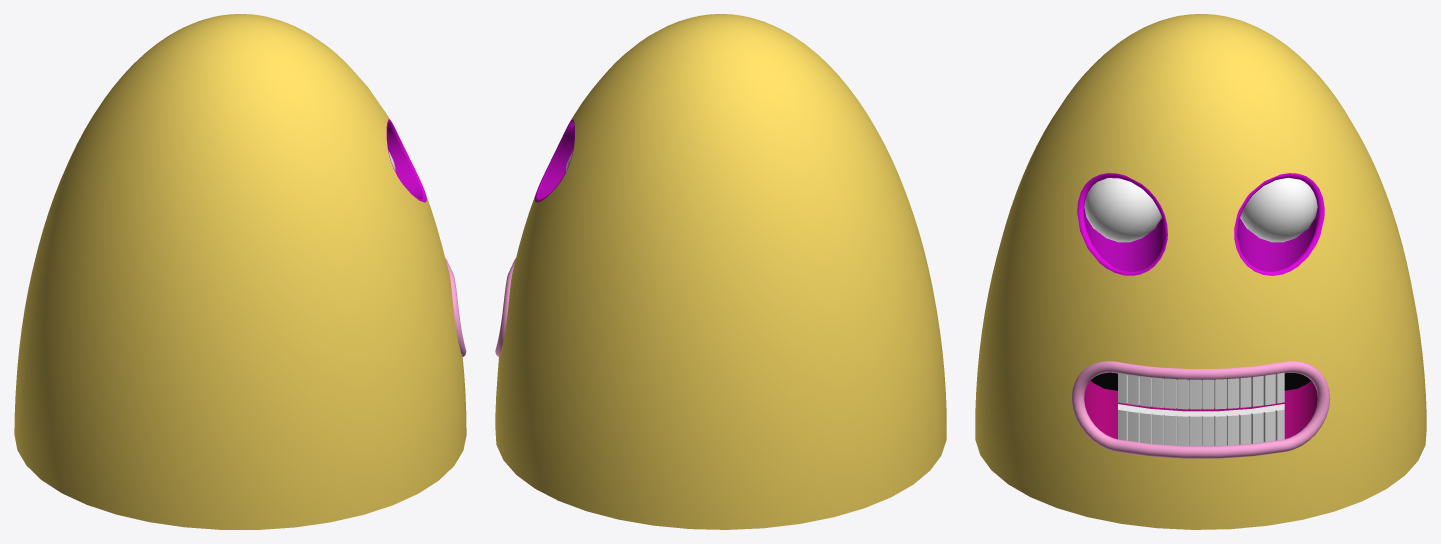
File: sillybob.glb
3 views of the same model, side by side, from view 1: azimuth 30°, elevation 25°; view 2: azimuth 150°, elevation 25°; view 3: azimuth 270°, elevation 25° (orthographic).
Visible parts, largest first — view 1: Dome2; view 2: Dome2; view 3: Dome2.
Part boxes in pixels (box(x1,y1,x2,y2)): Dome2: box(14, 14, 466, 529); Dome2: box(495, 14, 946, 529); Dome2: box(975, 14, 1426, 529).
Bounding box in the file's own units: 0.9002 × 0.9006 × 0.8995.
